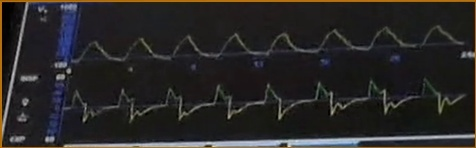Premature_cycling Flow: (67, 76, 467, 132)
Premature_cycling Volume: (74, 22, 461, 65)
